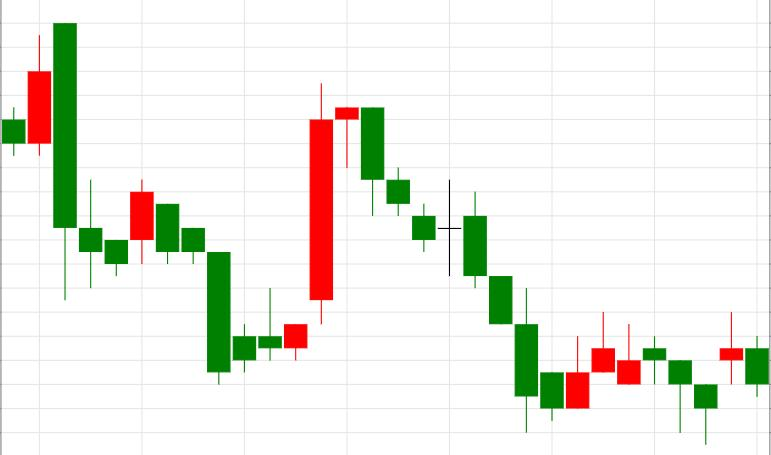bearish_engulfing_fall: (233, 84, 384, 385)
